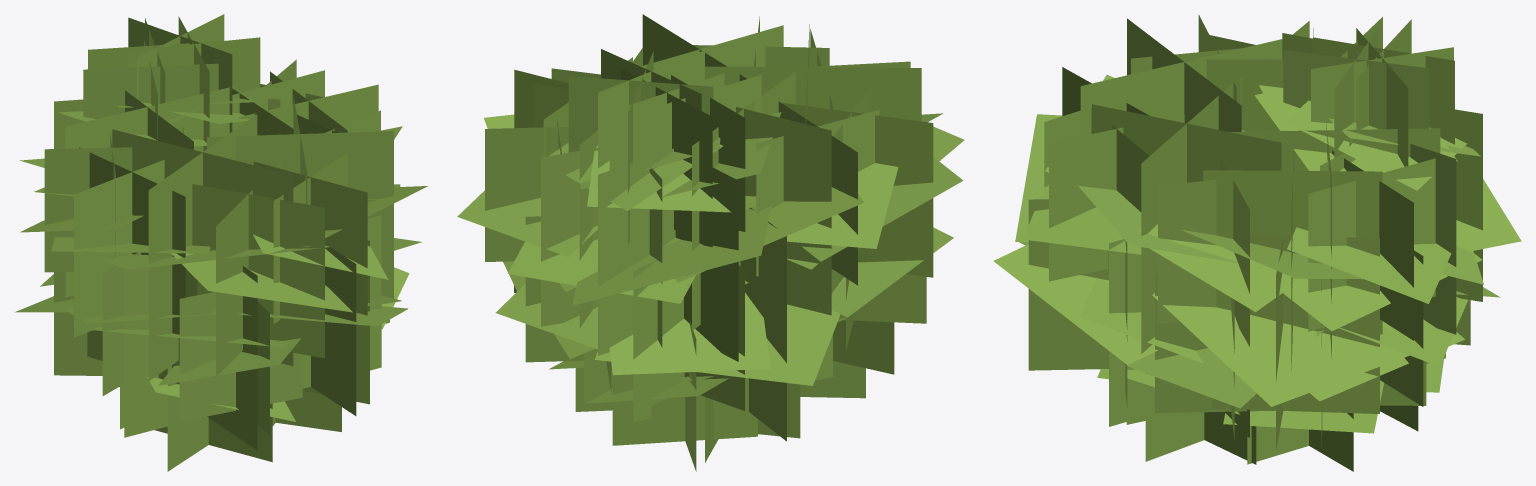
File: noisetier_2_f3_loin.glb
3 views of the same model, side by side, from view 1: azimuth 30°, elevation 25°; view 2: azimuth 150°, elevation 25°; view 3: azimuth 270°, elevation 25° (orthographic). The views are drawn at different scales.
Visible parts, largest first — view 1: Noisetier_T2_f3_Leger_Loin; view 2: Noisetier_T2_f3_Leger_Loin; view 3: Noisetier_T2_f3_Leger_Loin.
Part boxes in pixels (bbox=[...]): Noisetier_T2_f3_Leger_Loin: bbox=[15, 14, 427, 471]; Noisetier_T2_f3_Leger_Loin: bbox=[457, 14, 964, 471]; Noisetier_T2_f3_Leger_Loin: bbox=[993, 15, 1521, 471].
Bounding box in the file's own units: 5.67 × 4.76 × 5.69.
